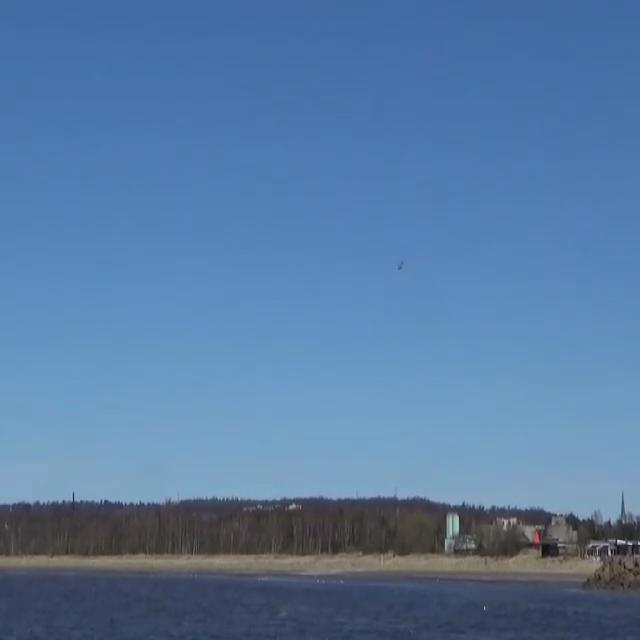Helicopter: (385, 244, 414, 285)
